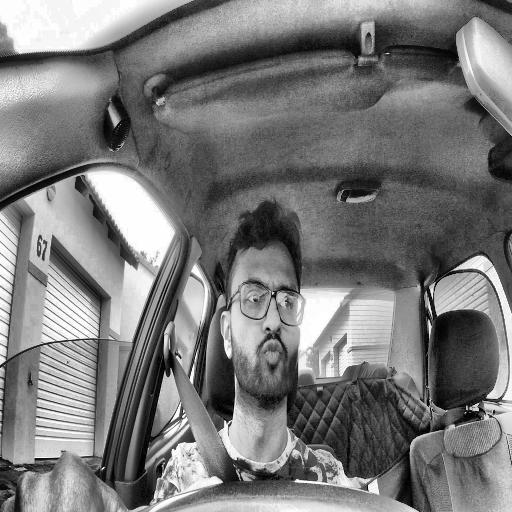awake: (219, 200, 306, 403)
